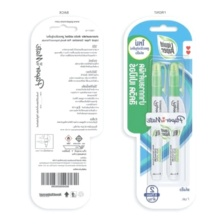book: (121, 14, 199, 210), (29, 16, 104, 209)
correction_fluid: (164, 60, 187, 182), (148, 60, 169, 182)
